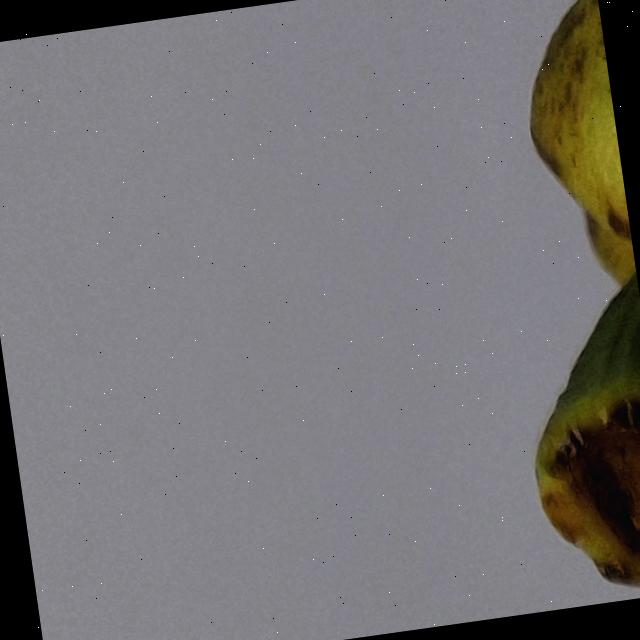mangosteen: (433, 0, 640, 614)
